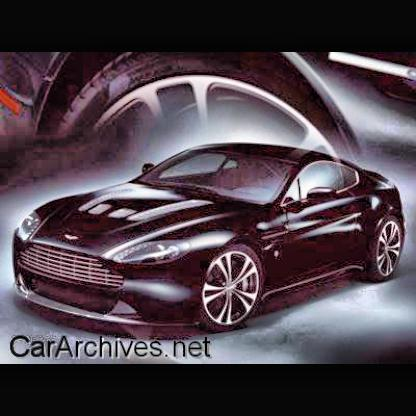Aston Martin V8 Vantage Coupe 2012: (14, 143, 411, 340)
